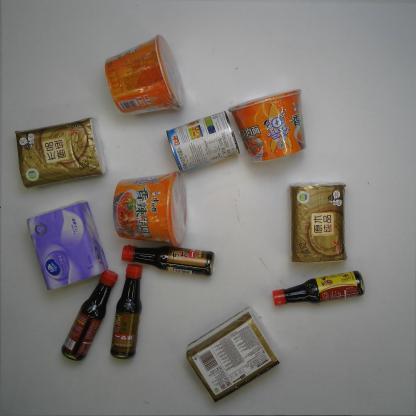Canned Food: (166, 110, 241, 175)
Instant Noodles: (104, 33, 187, 117), (226, 87, 308, 164), (112, 169, 188, 248)
Seasoner: (60, 270, 119, 362), (272, 269, 366, 308), (109, 263, 144, 361), (121, 244, 216, 278)
Tissue: (184, 304, 285, 404), (25, 199, 109, 292), (13, 116, 109, 191), (286, 180, 348, 265)
